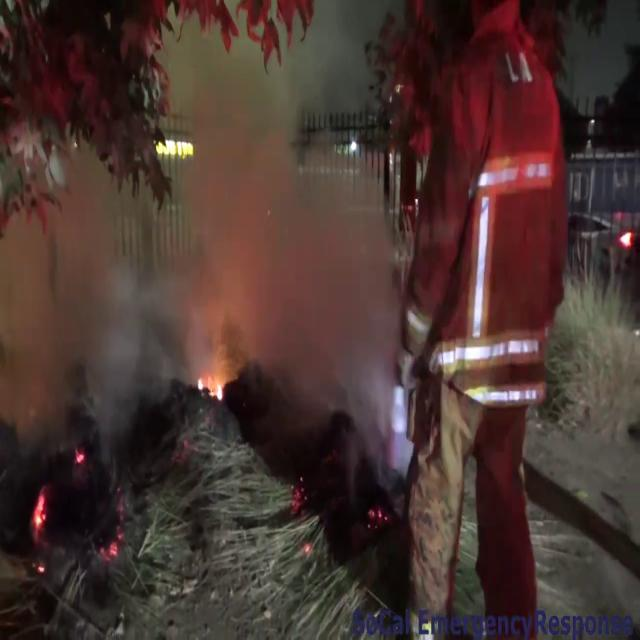Smoke: (1, 11, 412, 493)
